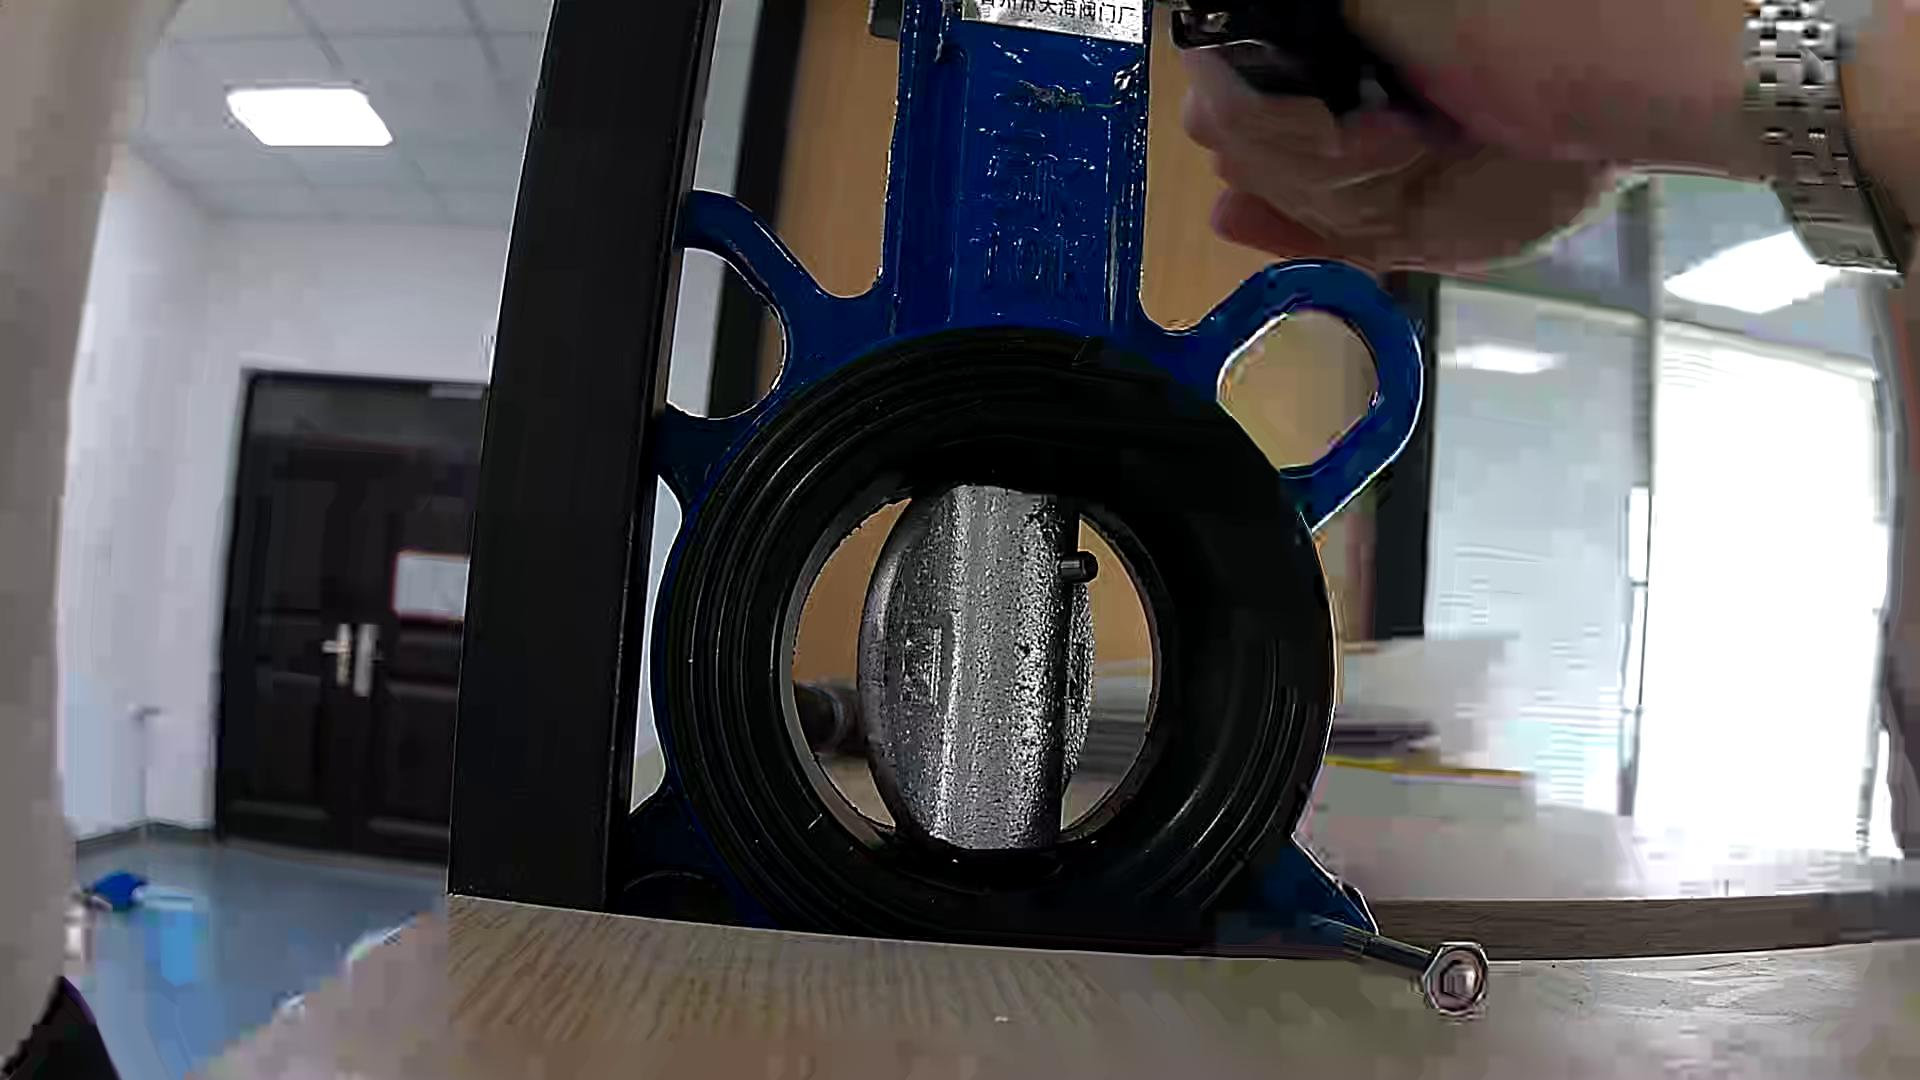valve: (858, 484, 1097, 852)
